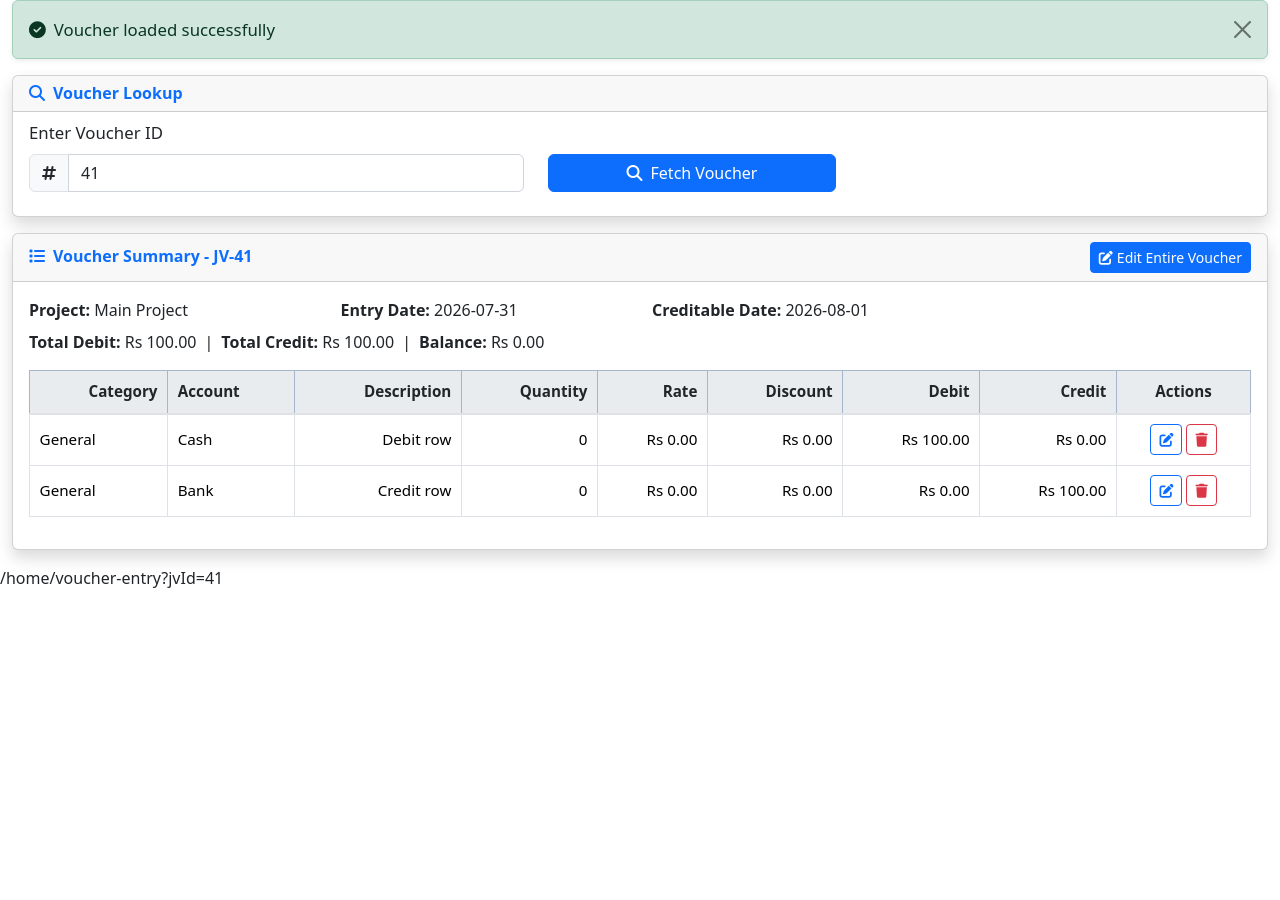
VoucherEntry aggregate editing boundaries › shows why a line could not be deleted inside the confirmation dialog instead of behind it
Click the button titled "Delete Entry" in the row of "Cash" at (1202, 440), box [1186,424,1217,455]
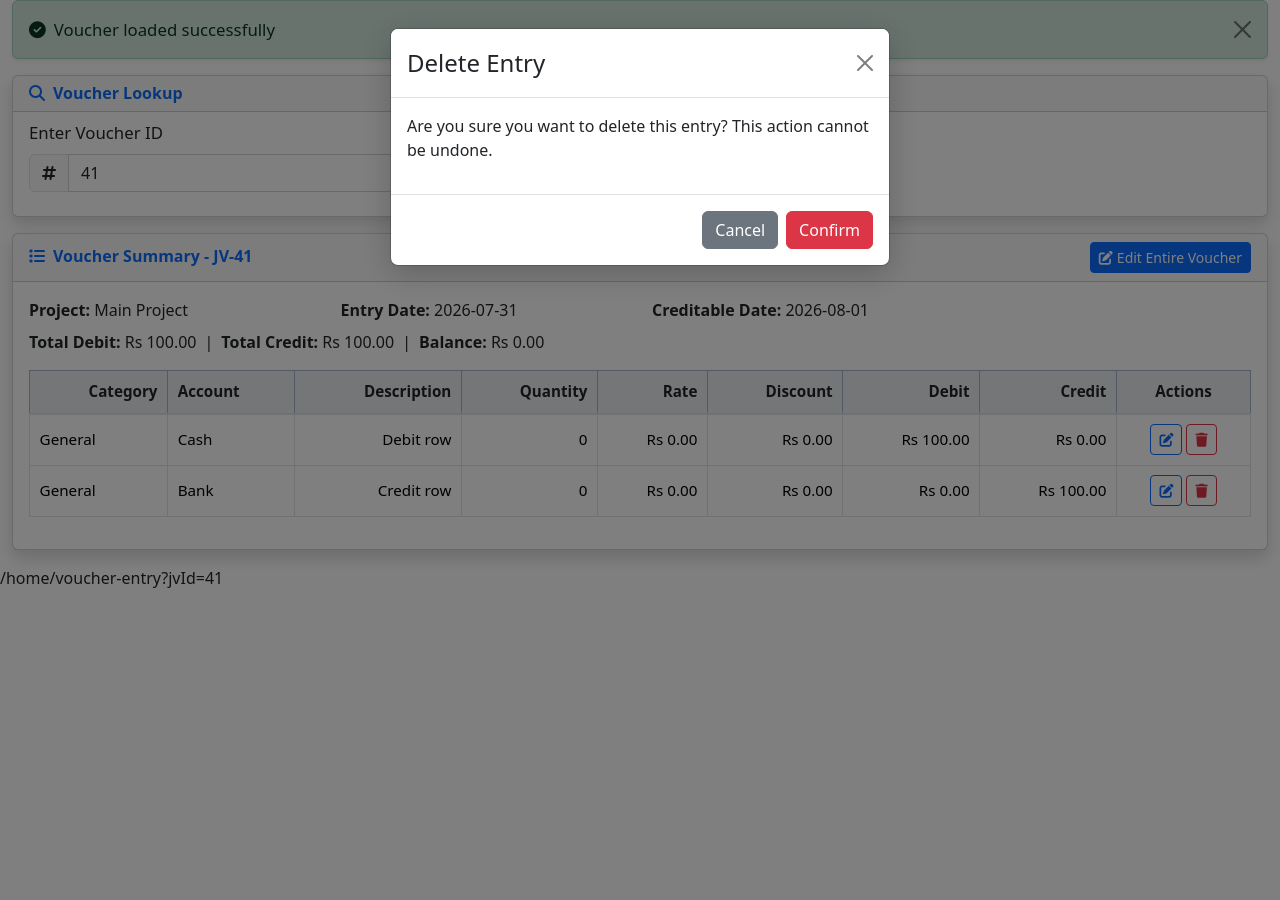
Click the button "Confirm" at (830, 230), box [786,211,873,249]
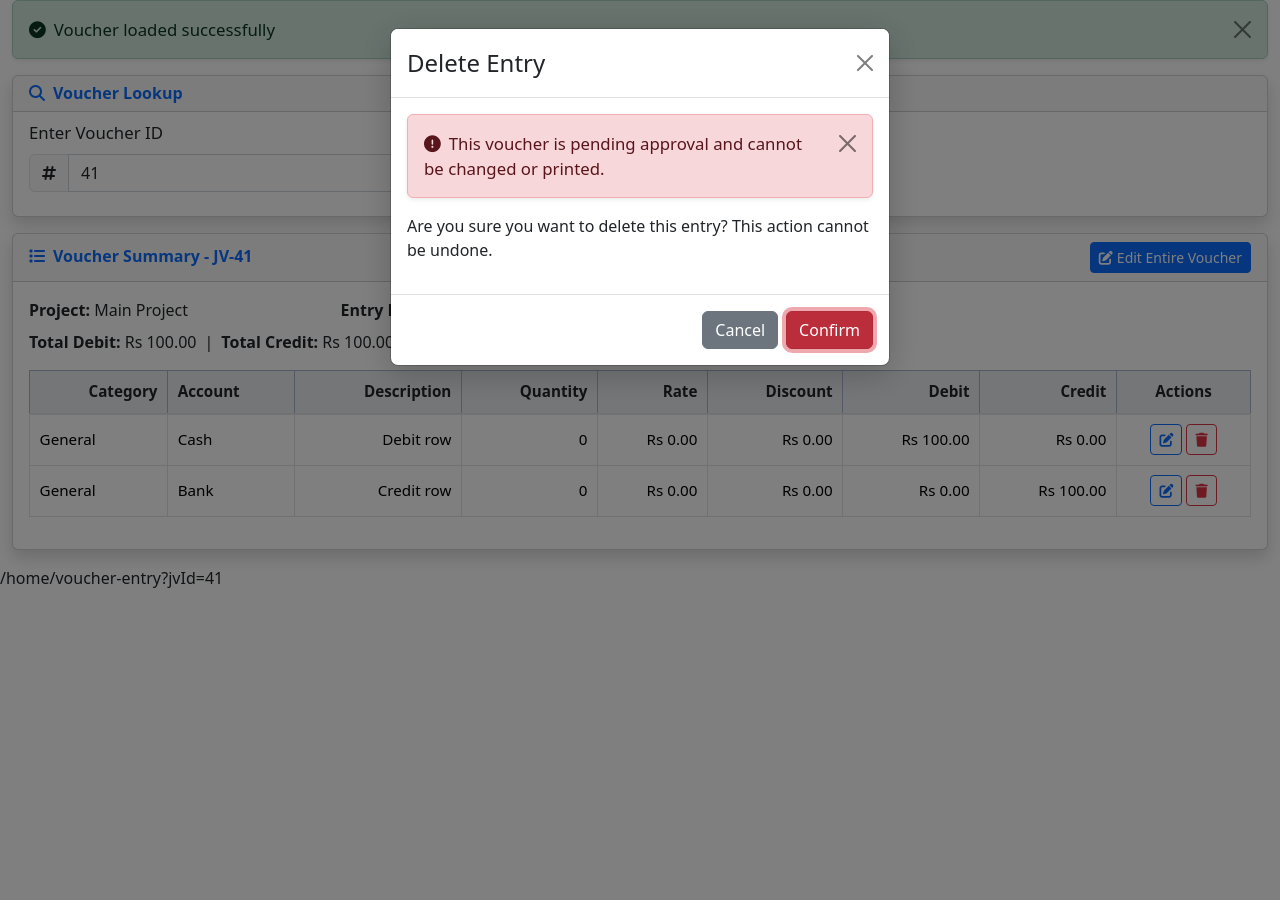
expect the dialog is shown: met, box [390,28,890,366]
expect the text "This voucher is pending approval and cannot be changed or printed." is shown: met, box [407,114,873,198]
